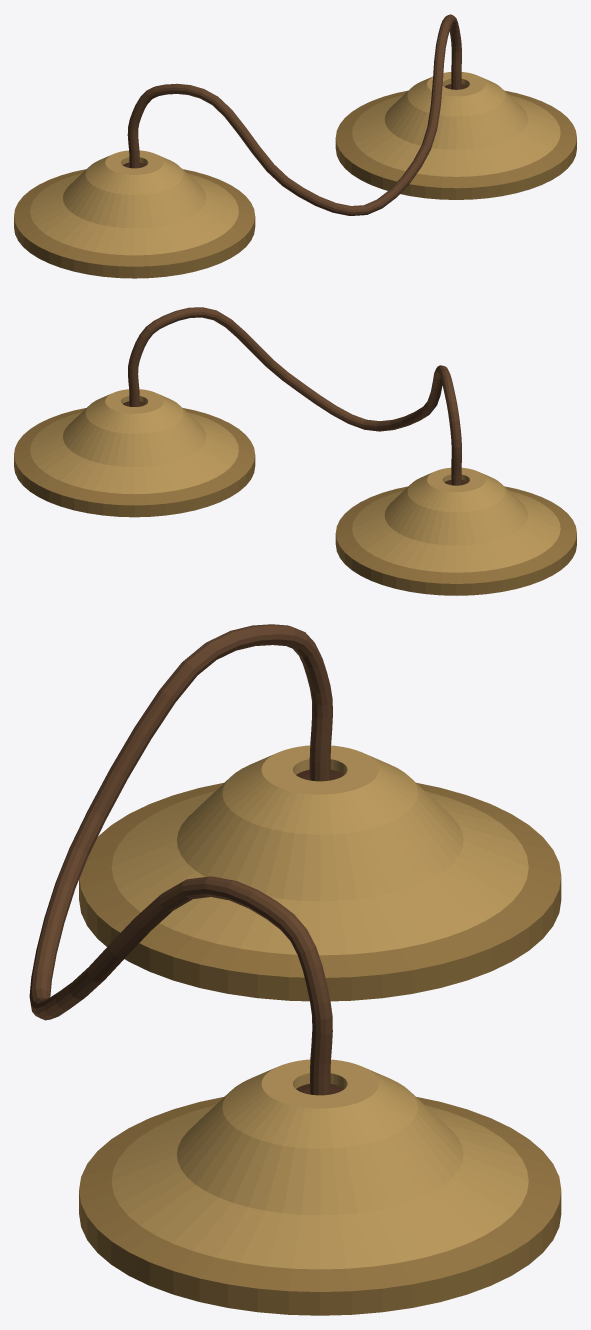
3 views of the same model, one above another, from view 1: azimuth 30°, elevation 25°; view 2: azimuth 150°, elevation 25°; view 3: azimuth 270°, elevation 25° (orthographic). The views are drawn at different scales.
Parts seen in each view (by area): view 1: Left_WholeThickBoredBossAndReturnedRim, Right_WholeThickBoredBossAndReturnedRim, WholeContinuousBoreToBoreLinkCord; view 2: Left_WholeThickBoredBossAndReturnedRim, Right_WholeThickBoredBossAndReturnedRim, WholeContinuousBoreToBoreLinkCord; view 3: Right_WholeThickBoredBossAndReturnedRim, Left_WholeThickBoredBossAndReturnedRim, WholeContinuousBoreToBoreLinkCord.
Part boxes in pixels (<box>): Left_WholeThickBoredBossAndReturnedRim: <box>14,150,255,278</box>; Right_WholeThickBoredBossAndReturnedRim: <box>335,72,576,199</box>; WholeContinuousBoreToBoreLinkCord: <box>127,14,461,215</box>; Left_WholeThickBoredBossAndReturnedRim: <box>335,467,576,595</box>; Right_WholeThickBoredBossAndReturnedRim: <box>14,389,255,517</box>; WholeContinuousBoreToBoreLinkCord: <box>128,307,461,485</box>; Right_WholeThickBoredBossAndReturnedRim: <box>79,1059,561,1315</box>; Left_WholeThickBoredBossAndReturnedRim: <box>79,745,561,1001</box>; WholeContinuousBoreToBoreLinkCord: <box>29,624,332,1095</box>.
Size of the model in its own units: 0.188 by 0.0508 by 0.0816.
